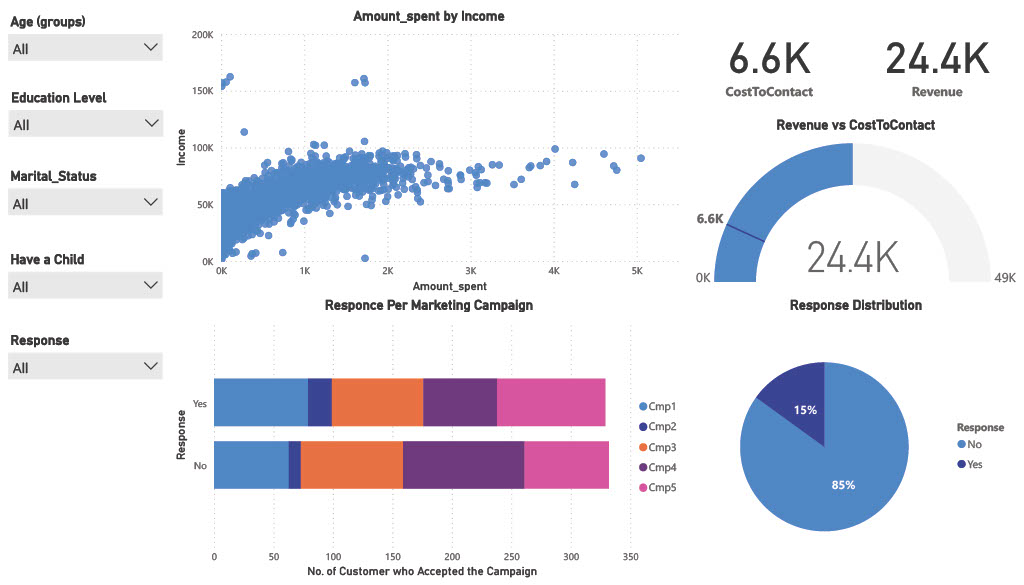

The page's visual inventory and layout, read from the dashboard file:
{"tool":"powerbi","page":{"name":"Overview","canvas":[1280,720],"ordinal":0},"visuals":[{"type":"scatterChart","fields":{"X":["Sum(Table1.Amount_spent)"],"Y":["Table1.Income"]},"box":[213,4.5,646.7,360.1],"z":0},{"type":"pieChart","title":"Response Distribution","fields":{"Category":["Table1.Response"],"Y":["CountNonNull(Table1.Response)"]},"box":[859.6,364.6,420.3,355.7],"z":1000},{"type":"gauge","title":"Revenue vs CostToContact","fields":{"Y":["Sum(Table1.Revenue)"],"TargetValue":["Sum(Table1.CostToContact)"]},"box":[859.9,139.9,419.7,225.5],"z":2000},{"type":"card","fields":{"Values":["Sum(Table1.Revenue)"]},"box":[1062.5,0,217.1,139.9],"z":3000},{"type":"card","fields":{"Values":["Sum(Table1.CostToContact)"]},"box":[859.9,0,202.6,139.9],"z":4000},{"type":"barChart","title":"Responce Per Marketing Campaign","fields":{"Category":["Table1.Response"],"Y":["Sum(Table1.Cmp1)","Sum(Table1.Cmp2)","Sum(Table1.Cmp3)","Sum(Table1.Cmp4)","Sum(Table1.Cmp5)"]},"box":[213,364.6,646.7,355.7],"z":5000},{"type":"slicer","fields":{"Values":["Table1.Age (groups)"]},"box":[0,6,213.5,95.3],"z":6000},{"type":"slicer","fields":{"Values":["Table1.Education"]},"box":[1.2,101.3,213.5,97.7],"z":7000},{"type":"slicer","fields":{"Values":["Table1.Marital_Status"]},"box":[0,199,213.5,103.7],"z":8000},{"type":"slicer","fields":{"Values":["Table1.HaveChild"]},"box":[0,302.7,213.5,101.3],"z":9000},{"type":"slicer","fields":{"Values":["Table1.Response"]},"box":[0,404,213.5,101.3],"z":10000}]}

Visuals, with their boxes in screenshot pixels (x1, y1, x2, y2), scaled from the page's 1280x720 canvas onto the 1024x585 screenshot:
scatterChart - Sum(Table1.Amount_spent) x Table1.Income: detection(170, 4, 688, 296)
"Response Distribution" pieChart: detection(688, 296, 1023, 584)
"Revenue vs CostToContact" gauge: detection(688, 114, 1023, 297)
card - Sum(Table1.Revenue): detection(850, 0, 1023, 114)
card - Sum(Table1.CostToContact): detection(688, 0, 850, 114)
"Responce Per Marketing Campaign" barChart: detection(170, 296, 688, 584)
slicer - Table1.Age (groups): detection(0, 5, 171, 82)
slicer - Table1.Education: detection(1, 82, 172, 162)
slicer - Table1.Marital_Status: detection(0, 162, 171, 246)
slicer - Table1.HaveChild: detection(0, 246, 171, 328)
slicer - Table1.Response: detection(0, 328, 171, 411)
